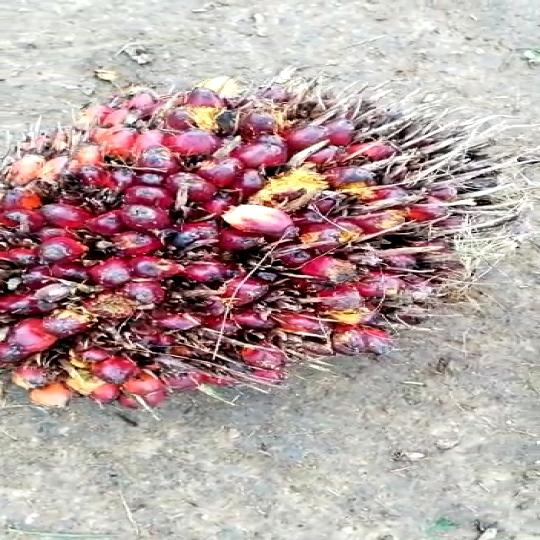masak: (0, 69, 532, 432)
